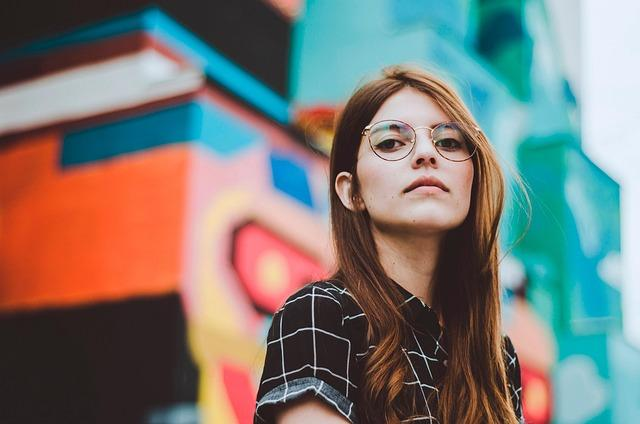Non_Gorille: (159, 3, 619, 424)
